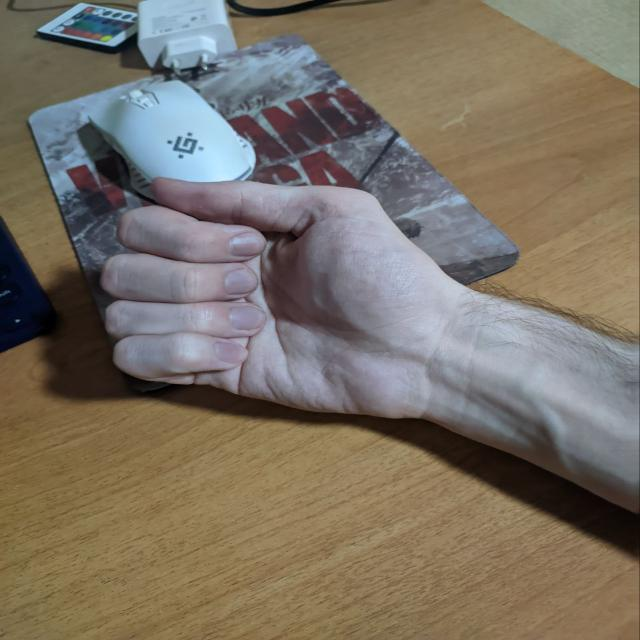a: (105, 162, 422, 450)
